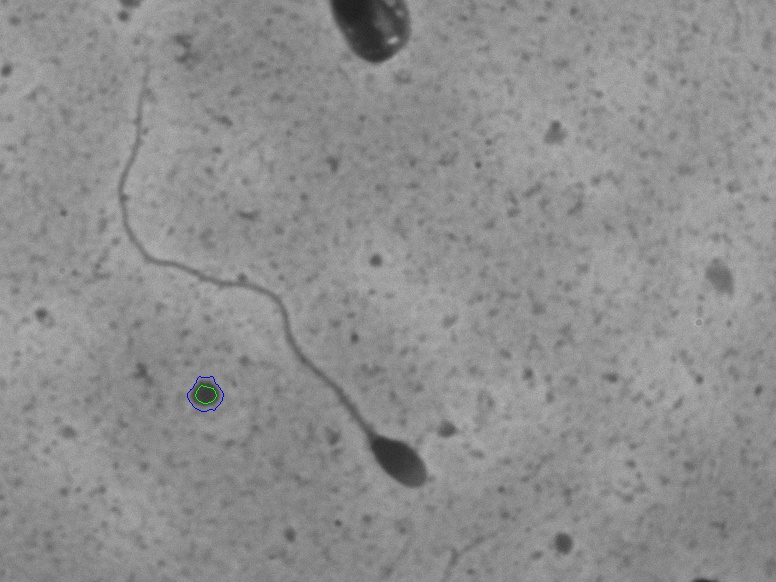Normal: (101, 44, 452, 502)
